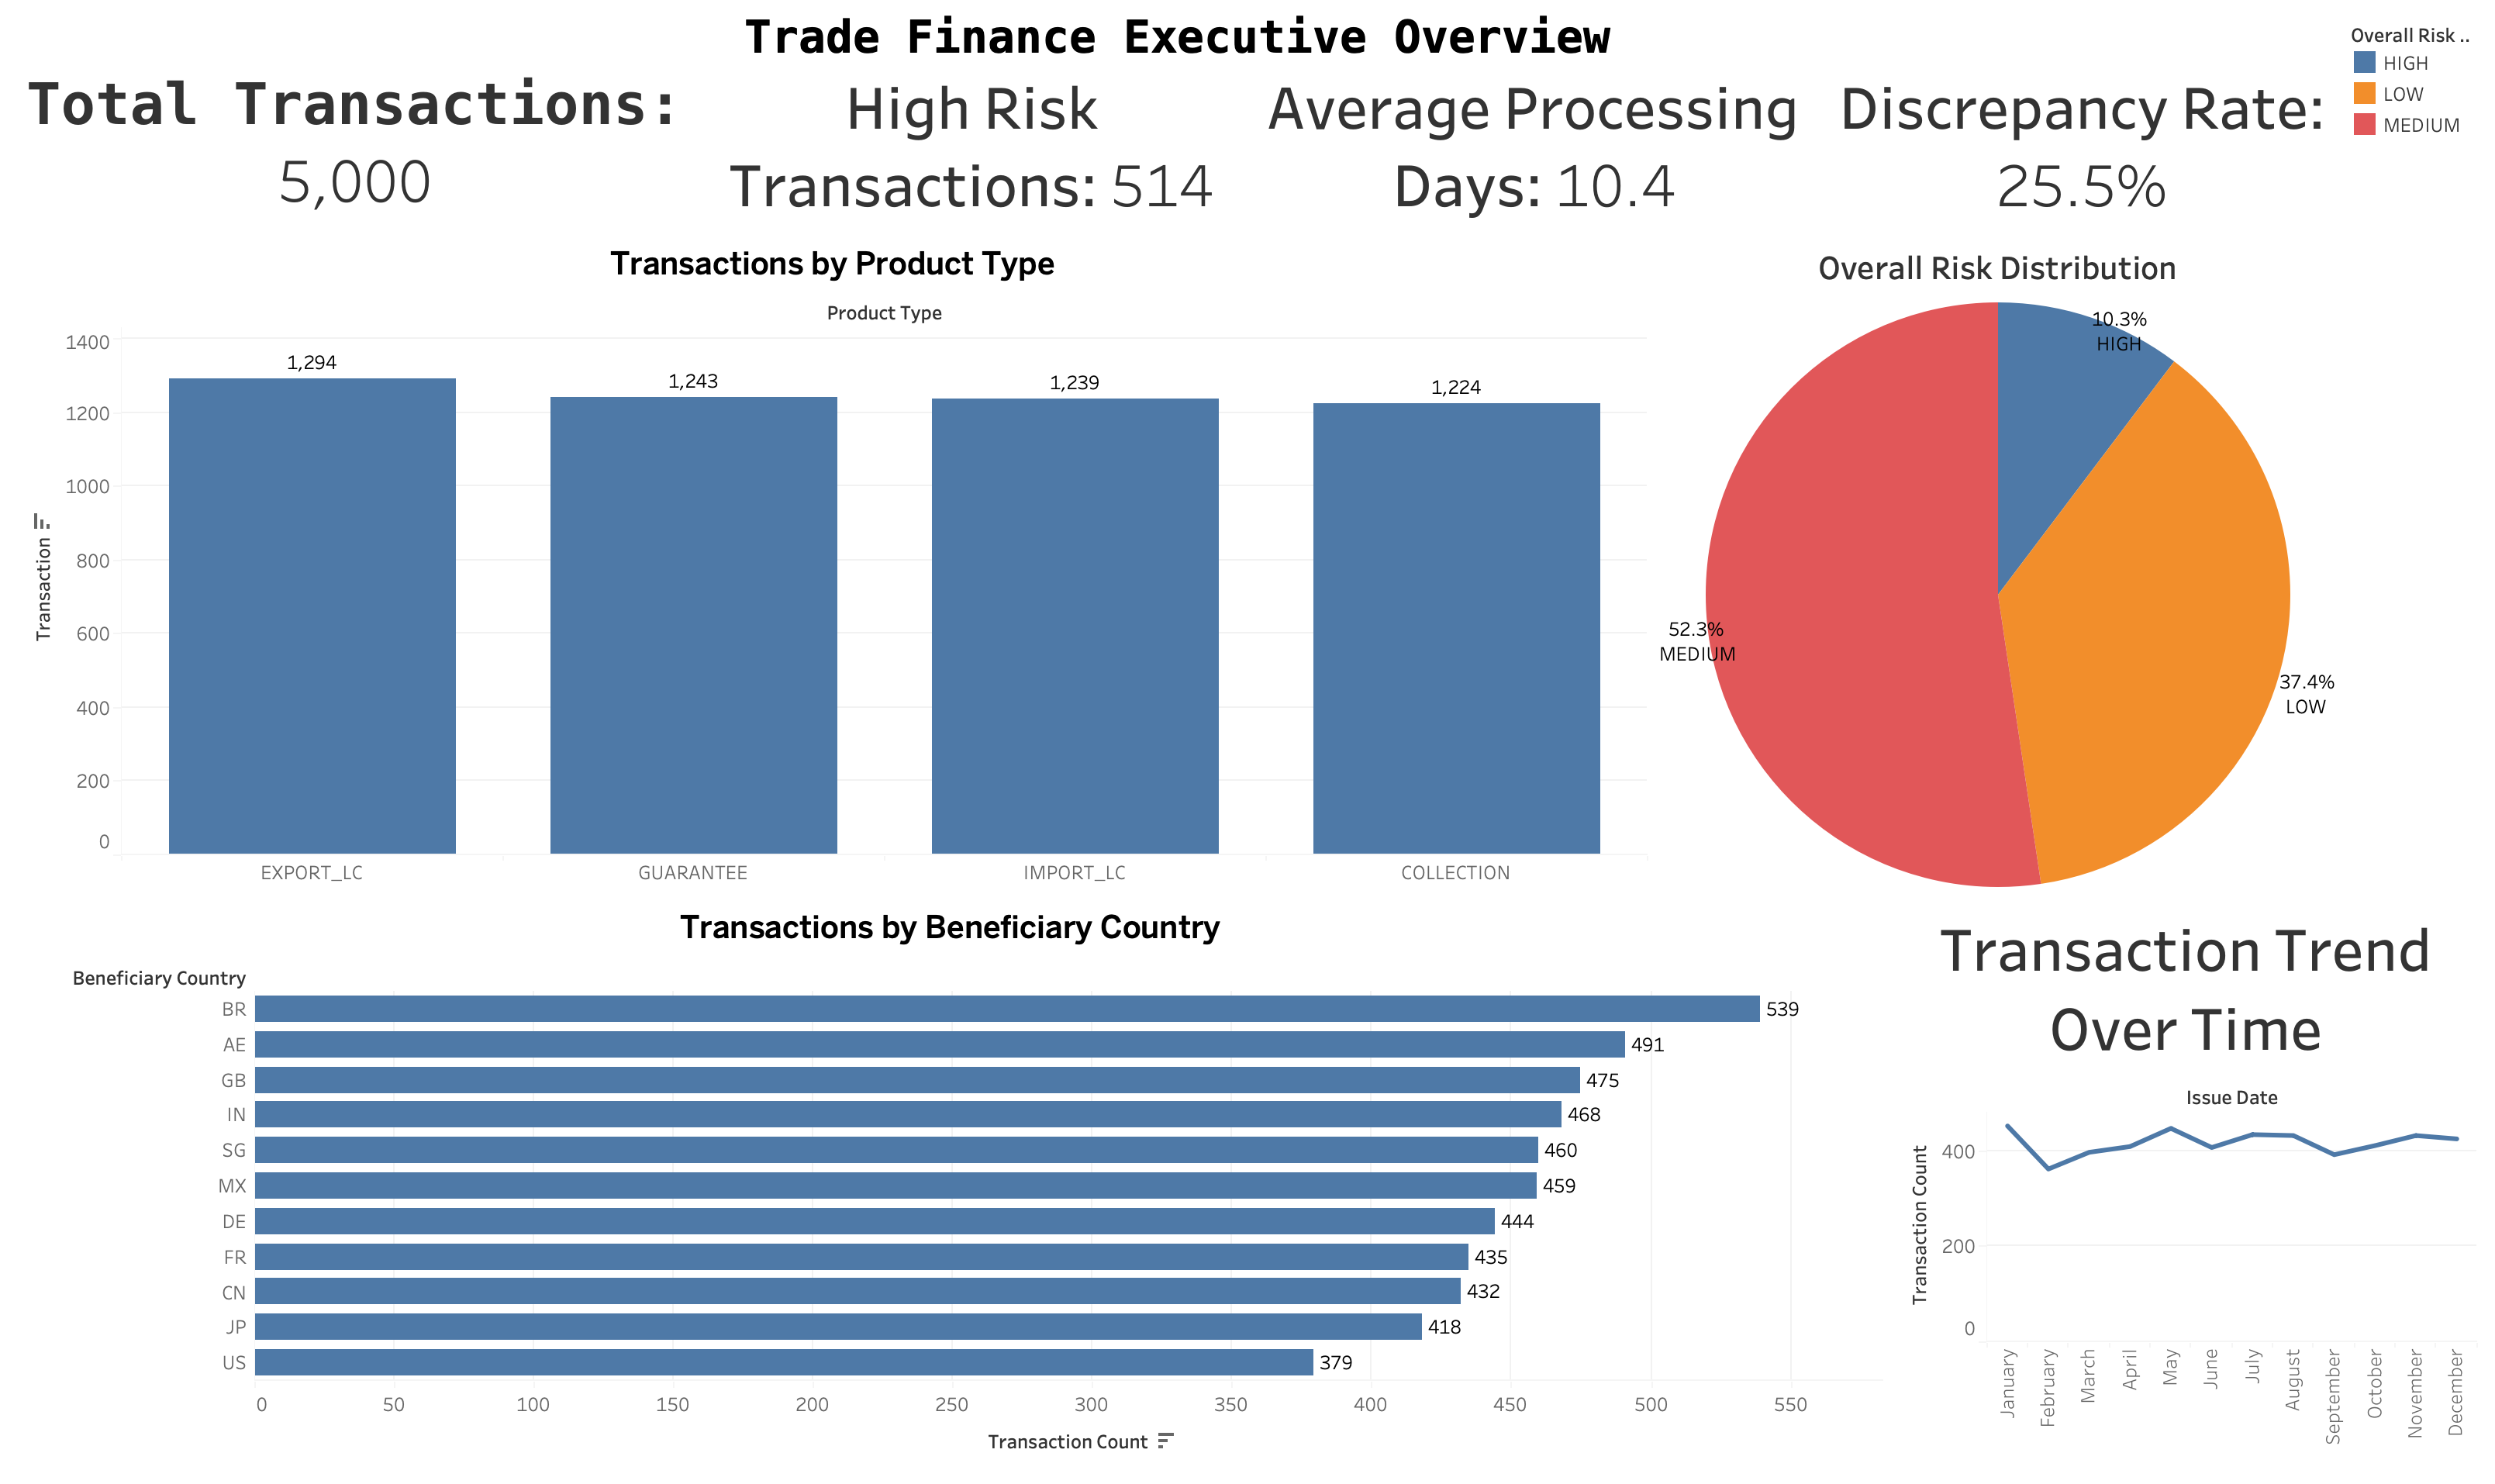

The dashboard page shown, as its layout file describes it:
{"tool":"tableau","page":{"name":"Dashboard - Executive Overview","canvas":[1609,957],"ordinal":0},"visuals":[{"type":"text","box":[8,8,1503,31.5]},{"type":"legend","title":"Chart - Overall Risk Distribution","param":"[federated.01z4yng1s22txb147pdv114arza1].[none:overall_risk_level:nk]","box":[1511,8,90,86]},{"type":"worksheet","title":"KPI - Total Transactions ","mark":"Automatic","box":[8,39.5,442,108.5]},{"type":"worksheet","title":"KPI - High Risk Transactions","mark":"Automatic","box":[450,39.5,354,108.5]},{"type":"worksheet","title":"KPI - Average Processing Days","mark":"Automatic","box":[804,39.5,371,108.5]},{"type":"worksheet","title":"KPI - Discrepancy Rate","mark":"Automatic","box":[1175,39.5,336,108.5]},{"type":"worksheet","title":"Chart - Transactions by product Type","mark":"Automatic","rows":["transaction_id"],"cols":["product_type"],"box":[8,148,1058,428]},{"type":"worksheet","title":"Chart - Overall Risk Distribution","mark":"Pie","box":[1066,148,445,428]},{"type":"worksheet","title":"Chart - Transactions by Beneficiary Country","mark":"Automatic","rows":["beneficiary_country"],"cols":["Calculation_0518954137407488"],"box":[8,576,1209.9,373]},{"type":"worksheet","title":"Chart - Transaction Trend","mark":"Automatic","rows":["Calculation_0518954137407488"],"cols":["issue_date"],"box":[1217.9,576,383.1,373]}]}

Visuals, with their boxes in screenshot pixels (x1, y1, x2, y2), scaled from the page's 1609x957 canvas onto the 2495x1484 screenshot:
text: detection(12, 12, 2343, 61)
"Chart - Overall Risk Distribution" legend: detection(2343, 12, 2483, 146)
"KPI - Total Transactions " worksheet: detection(12, 61, 698, 230)
"KPI - High Risk Transactions" worksheet: detection(698, 61, 1247, 230)
"KPI - Average Processing Days" worksheet: detection(1247, 61, 1822, 230)
"KPI - Discrepancy Rate" worksheet: detection(1822, 61, 2343, 230)
"Chart - Transactions by product Type" worksheet: detection(12, 230, 1653, 893)
"Chart - Overall Risk Distribution" worksheet (Pie marks): detection(1653, 230, 2343, 893)
"Chart - Transactions by Beneficiary Country" worksheet: detection(12, 893, 1889, 1472)
"Chart - Transaction Trend" worksheet: detection(1889, 893, 2483, 1472)
